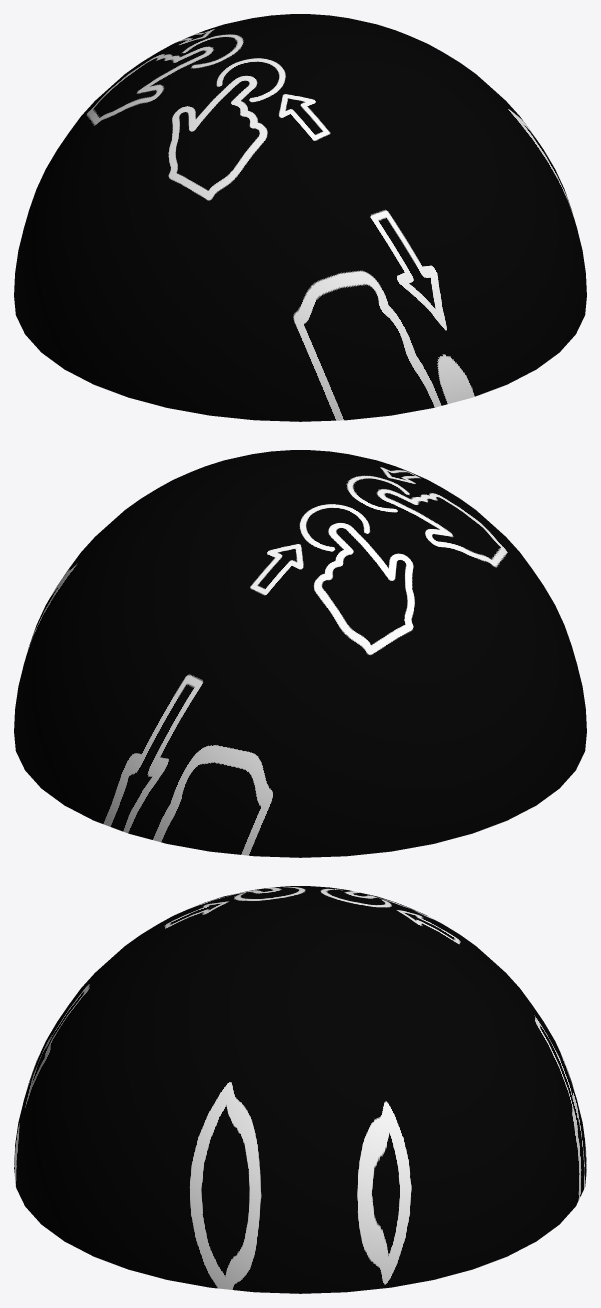
The model's file is HalfSphere.fbx.
3 renders of one model, top to bottom at view 1: azimuth 30°, elevation 25°; view 2: azimuth 150°, elevation 25°; view 3: azimuth 270°, elevation 25°, orthographic.
Parts seen in each view (by area): view 1: HalfSphere; view 2: HalfSphere; view 3: HalfSphere.
Part boxes in pixels (bbox=[...]): HalfSphere: bbox=[14, 14, 586, 421]; HalfSphere: bbox=[14, 450, 586, 857]; HalfSphere: bbox=[14, 886, 586, 1293].
Size of the model in its own units: 120 by 60.1 by 120.
